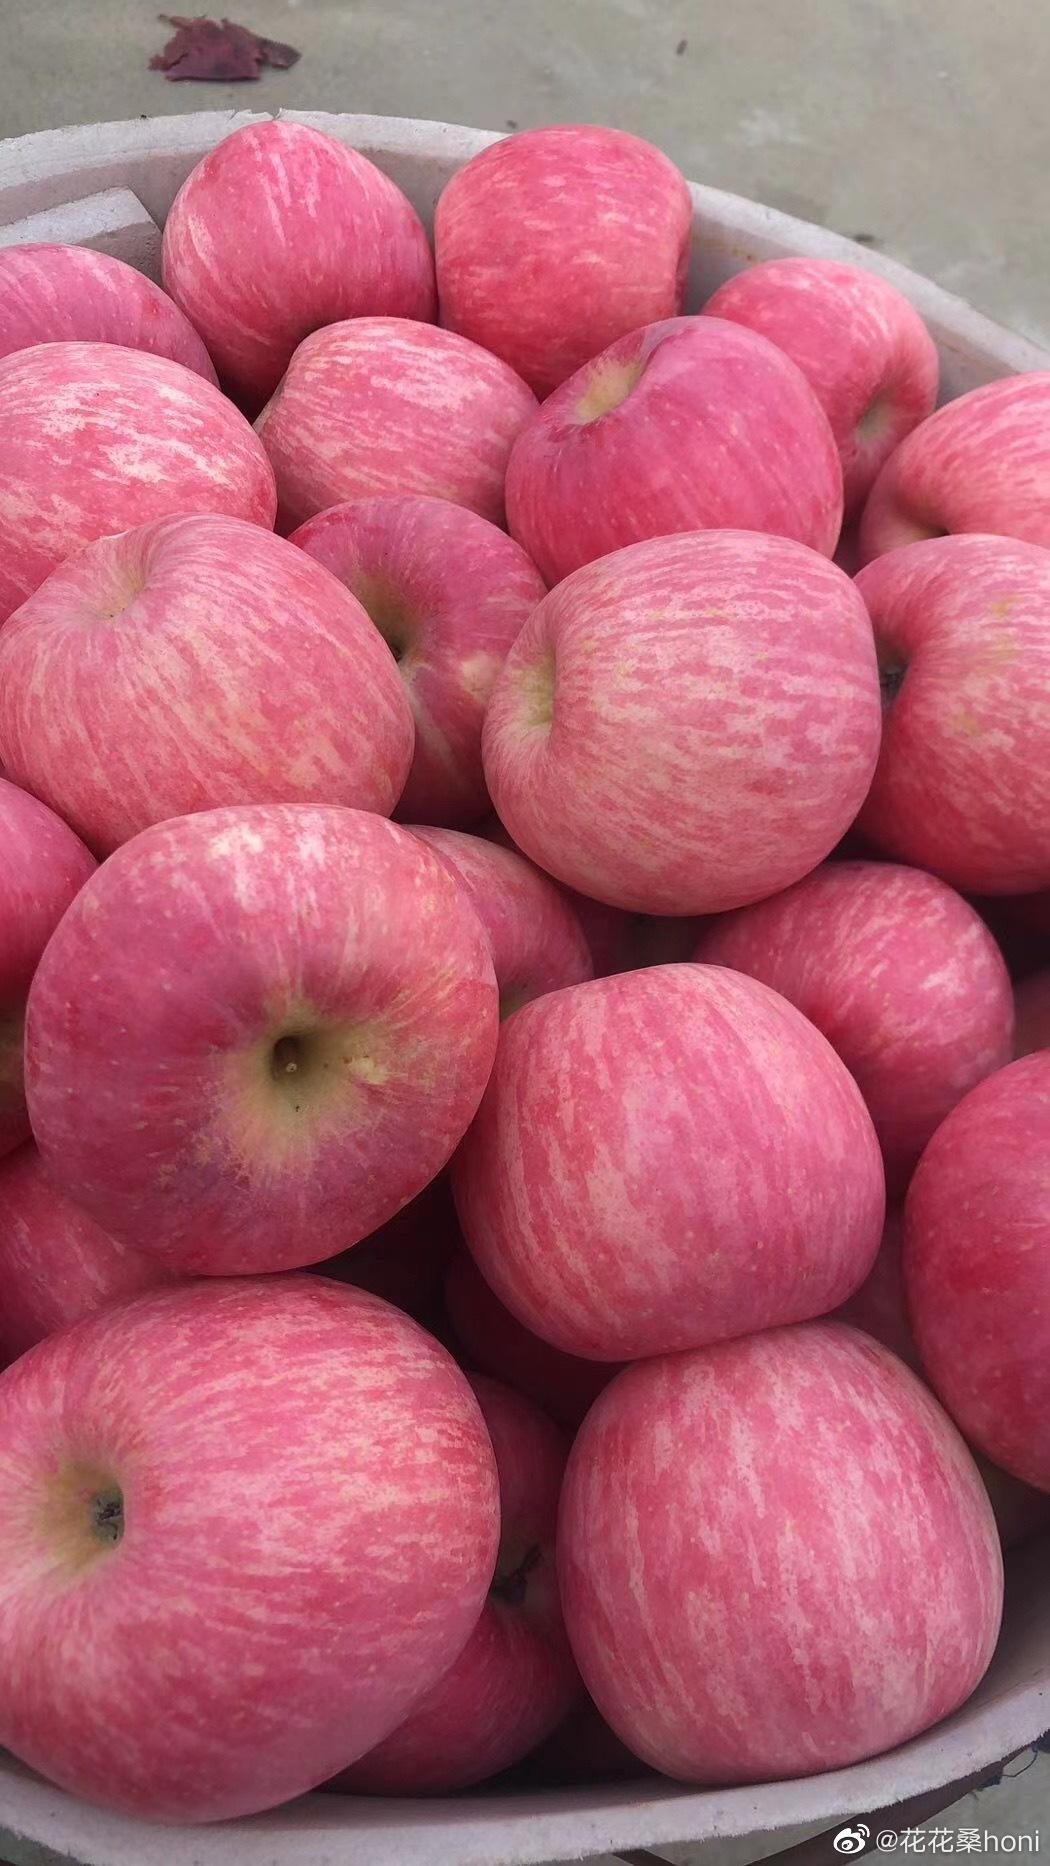apple: (1, 1279, 500, 1822), (33, 805, 499, 1275), (553, 1325, 999, 1772), (456, 959, 877, 1358), (485, 529, 869, 919), (5, 515, 414, 854), (686, 863, 1022, 1179), (487, 313, 845, 573), (290, 502, 544, 827), (165, 117, 431, 397), (854, 537, 1049, 912), (429, 123, 699, 395), (3, 343, 274, 611), (901, 1057, 1047, 1492), (251, 313, 537, 529), (705, 263, 937, 523), (865, 377, 1050, 566), (1, 787, 97, 1023)
